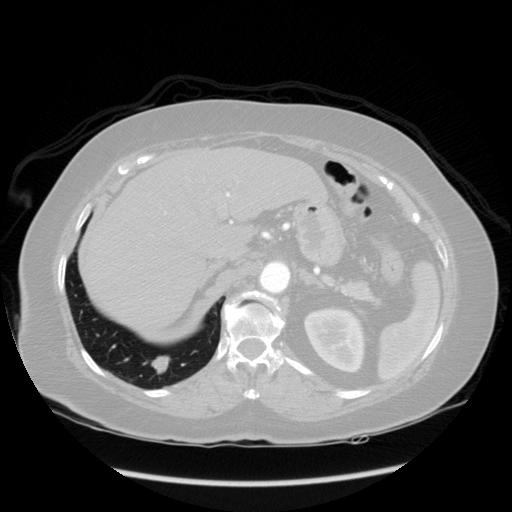nodule: (149, 352, 173, 376)
